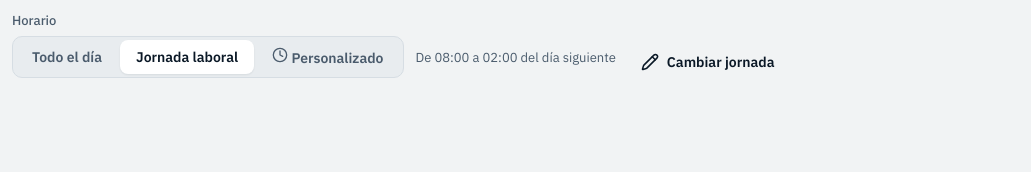
Test: HourFilterBar › 8. el error se borra al tipear
This screenshot has width=1031, height=172.
Click the button "Cambiar jornada" at [708, 62], box [628, 46, 788, 78]
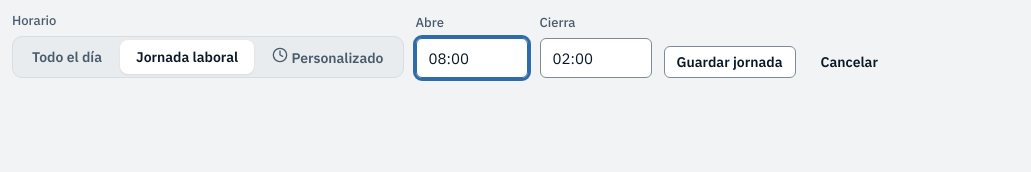
Replace the text in the field labelled "Abre" with "2500" at [472, 58], box [416, 38, 528, 78]
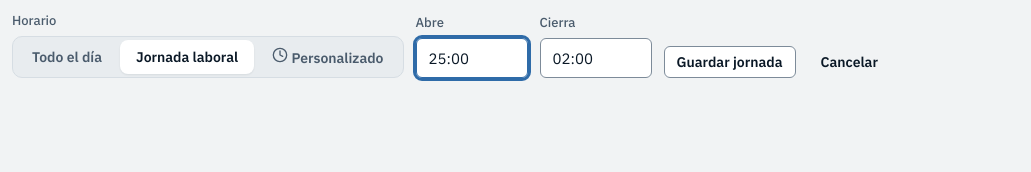
Click the button "Guardar jornada" at [730, 62], box [664, 46, 796, 78]
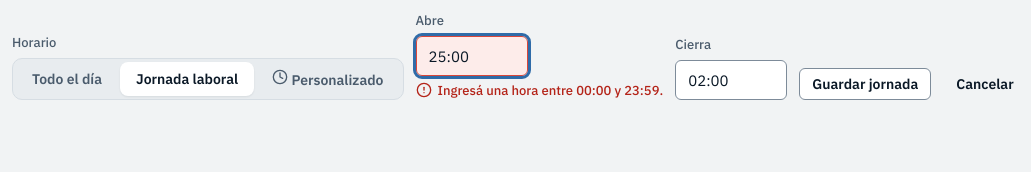
Replace the text in the field labelled "Abre" with "0900" at [472, 56], box [416, 36, 528, 76]
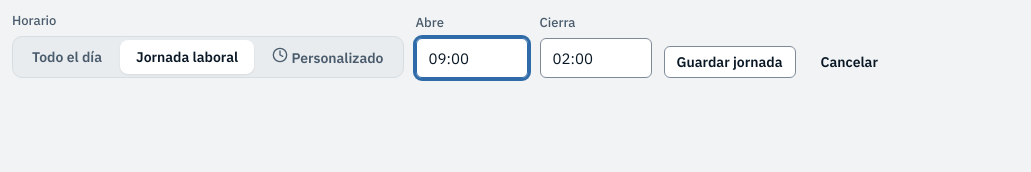
Check: the text "Ingresá una hora entre 00:00 y 23:59." is gone
